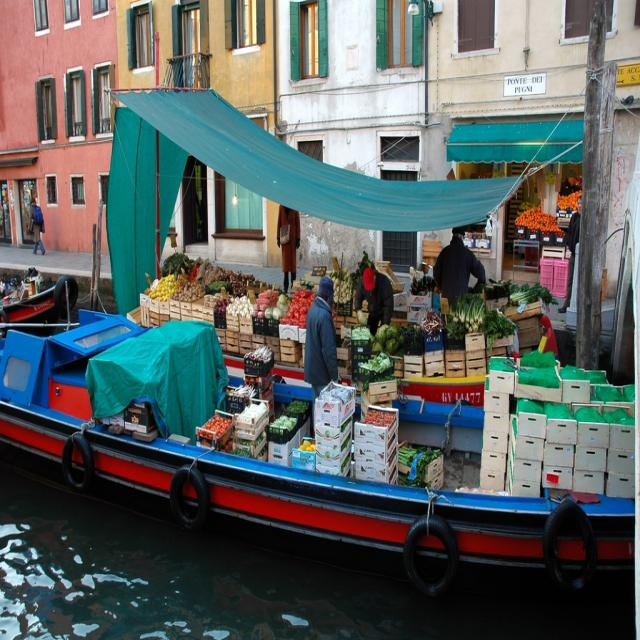Boat: (0, 264, 640, 596)
